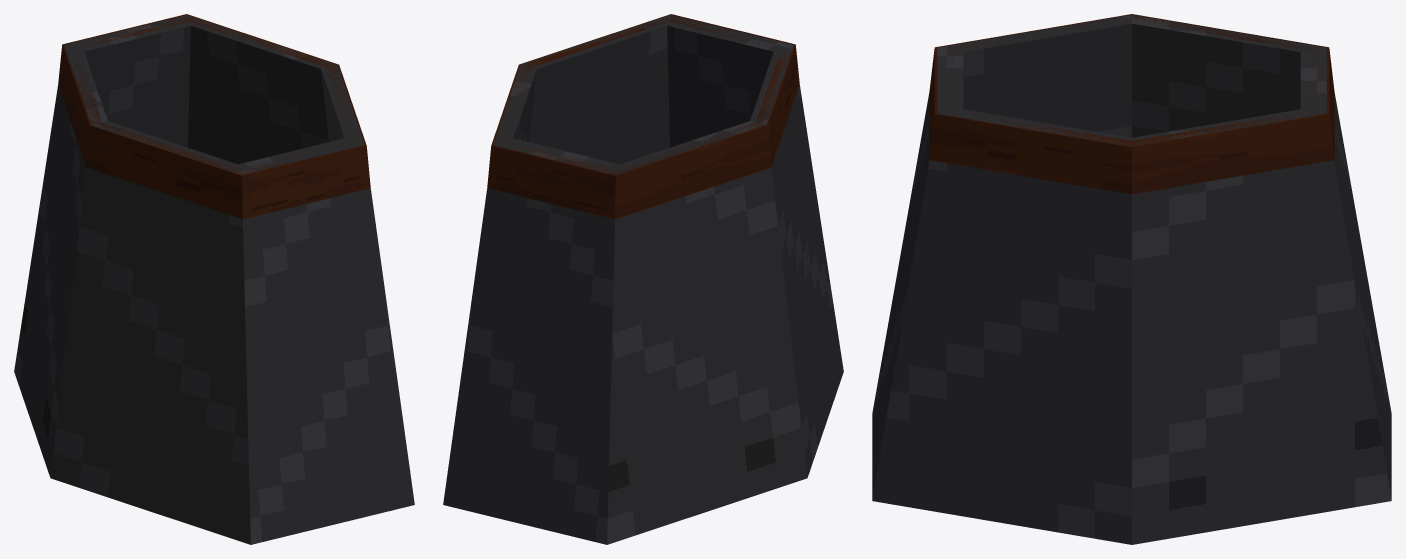
Rendered from escamas_hierro.glb.
3 renders of one model, left to right at view 1: azimuth 30°, elevation 25°; view 2: azimuth 150°, elevation 25°; view 3: azimuth 270°, elevation 25°, orthographic. The views are drawn at different scales.
Visible parts, largest first — view 1: faldar, cinturon; view 2: faldar, cinturon; view 3: faldar, cinturon.
Boxes of the visible parts, bbox=[...] form: faldar: bbox=[14, 15, 414, 544]; cinturon: bbox=[58, 14, 370, 219]; faldar: bbox=[443, 15, 843, 544]; cinturon: bbox=[487, 14, 799, 219]; faldar: bbox=[872, 15, 1391, 544]; cinturon: bbox=[929, 14, 1334, 194].
Bounding box in the file's own units: 0.4 × 0.4 × 0.5.
1 material, 1 textured.
